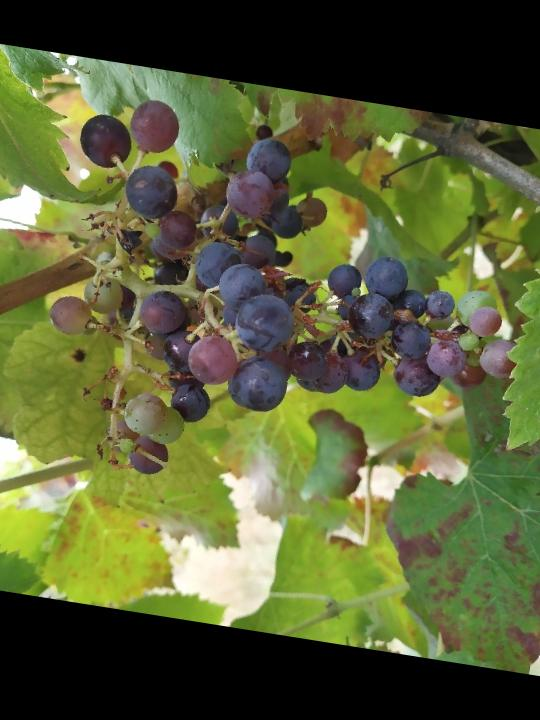grape: (23, 92, 540, 533)
